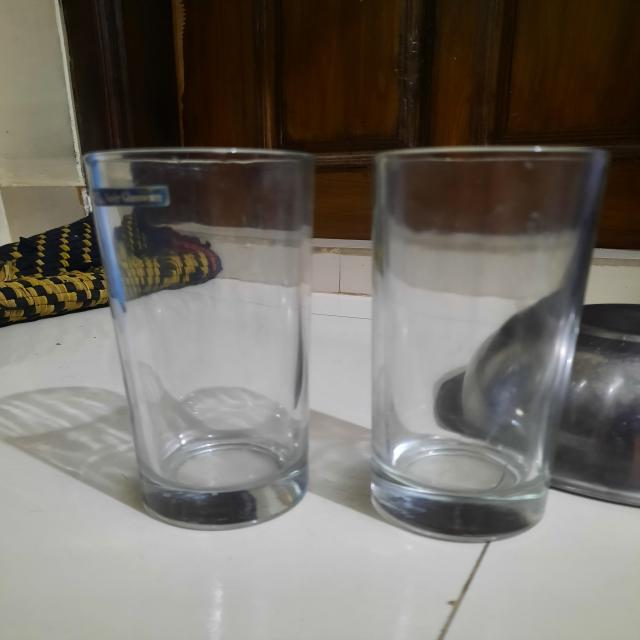Glass: (55, 112, 640, 599)
